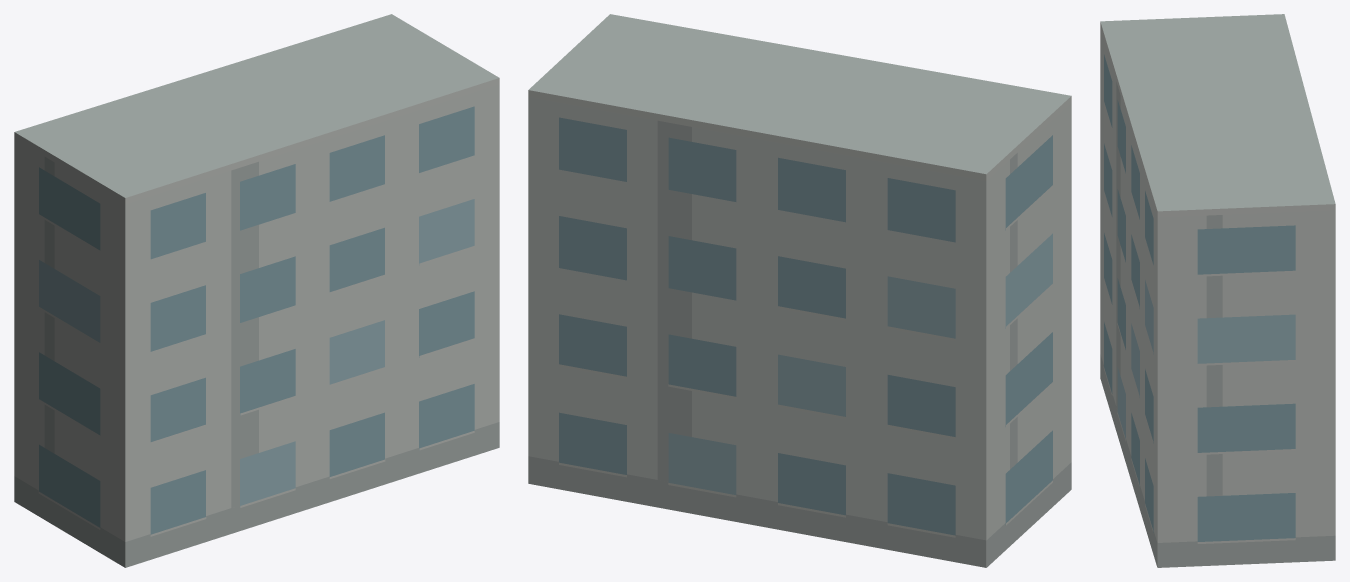
Rendered from survey-upis-32835741.glb.
The picture shows the model from 3 angles, left to right: view 1: azimuth 30°, elevation 25°; view 2: azimuth 150°, elevation 25°; view 3: azimuth 270°, elevation 25°; orthographic projection. The views are drawn at different scales.
Parts seen in each view (by area): view 1: survey-upis-32835741.tmp; view 2: survey-upis-32835741.tmp; view 3: survey-upis-32835741.tmp.
Boxes of the visible parts, bbox=[...] form: survey-upis-32835741.tmp: bbox=[14, 14, 499, 567]; survey-upis-32835741.tmp: bbox=[528, 14, 1071, 567]; survey-upis-32835741.tmp: bbox=[1100, 14, 1335, 567].
Size of the model in its own units: 16.63 by 14 by 8.38.
